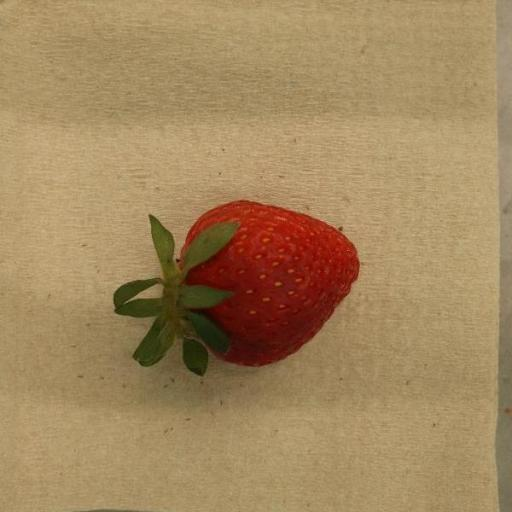Strawberry: (112, 201, 360, 377)
